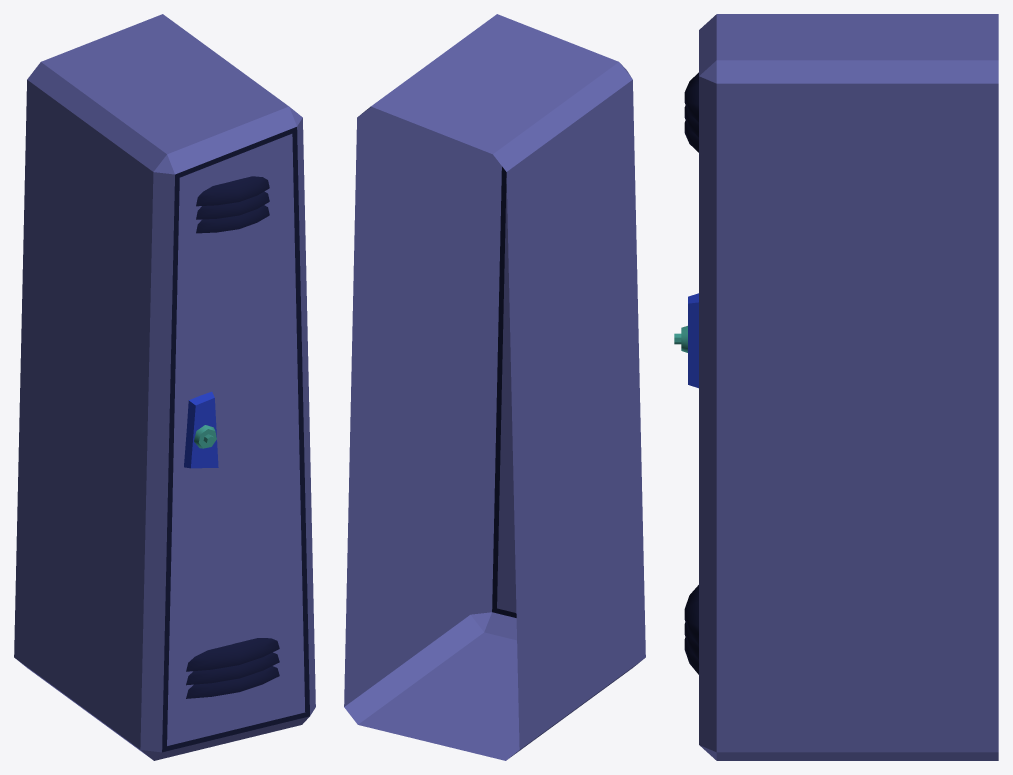
The model's file is MDL_locker.FBX.
3 views of the same model, side by side, from view 1: azimuth 30°, elevation 25°; view 2: azimuth 150°, elevation 25°; view 3: azimuth 270°, elevation 25° (orthographic). The views are drawn at different scales.
Visible parts, largest first — view 1: Box027; view 2: Box027; view 3: Box027.
Part boxes in pixels (box(x1,y1,x2,y2)): Box027: box(14, 14, 315, 760); Box027: box(344, 14, 645, 760); Box027: box(674, 14, 998, 760).
Bounding box in the file's own units: 18.19 × 61.58 × 26.11.
